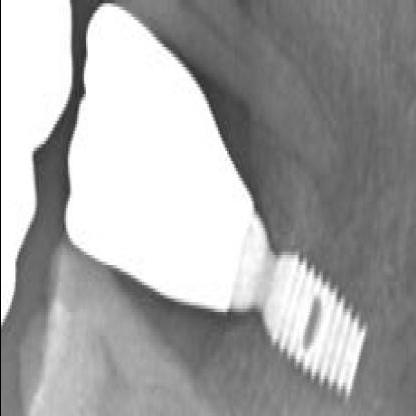Bicon: (260, 246, 366, 396)
